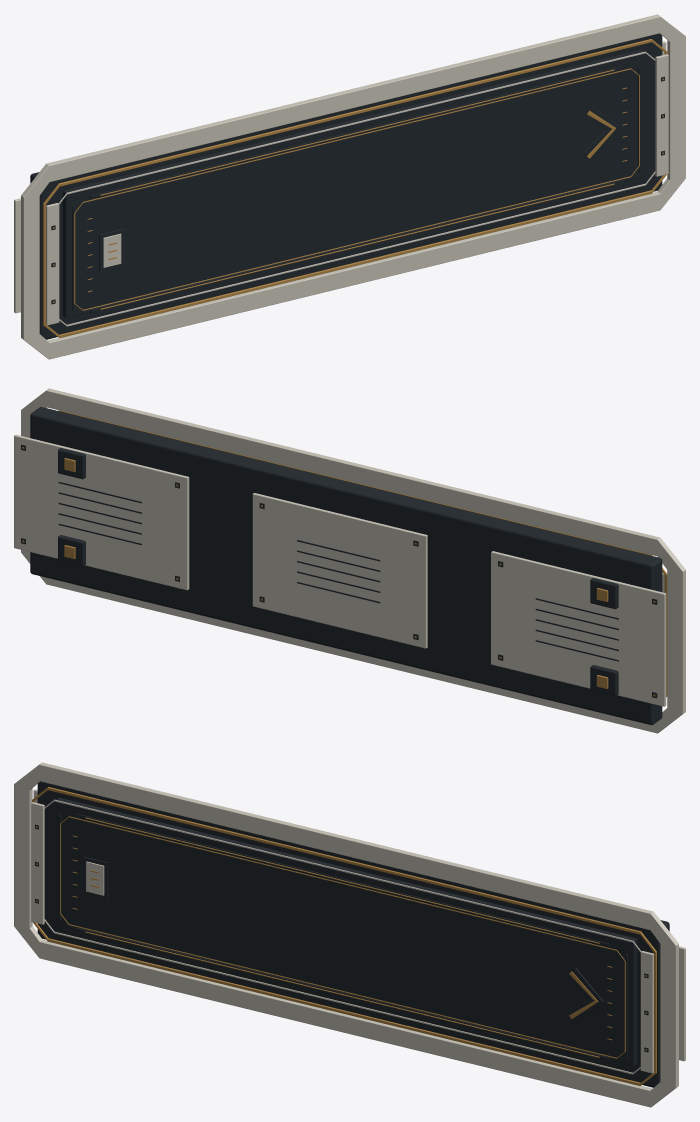
Rendered from SM_Aurelion_KIT_Z06WayfindingPanel.fbx.
3 renders of one model, top to bottom at view 1: azimuth 30°, elevation 25°; view 2: azimuth 150°, elevation 25°; view 3: azimuth 330°, elevation 25°, orthographic.
Visible parts, largest first — view 1: SM_Aurelion_KIT_Z06WayfindingPanel; view 2: SM_Aurelion_KIT_Z06WayfindingPanel; view 3: SM_Aurelion_KIT_Z06WayfindingPanel.
Part boxes in pixels (left/top/right/bottom): SM_Aurelion_KIT_Z06WayfindingPanel: left=14, top=14, right=685, bottom=359; SM_Aurelion_KIT_Z06WayfindingPanel: left=14, top=388, right=685, bottom=733; SM_Aurelion_KIT_Z06WayfindingPanel: left=14, top=762, right=685, bottom=1107.
Size of the model in its own units: 430 by 26.5 by 120.
